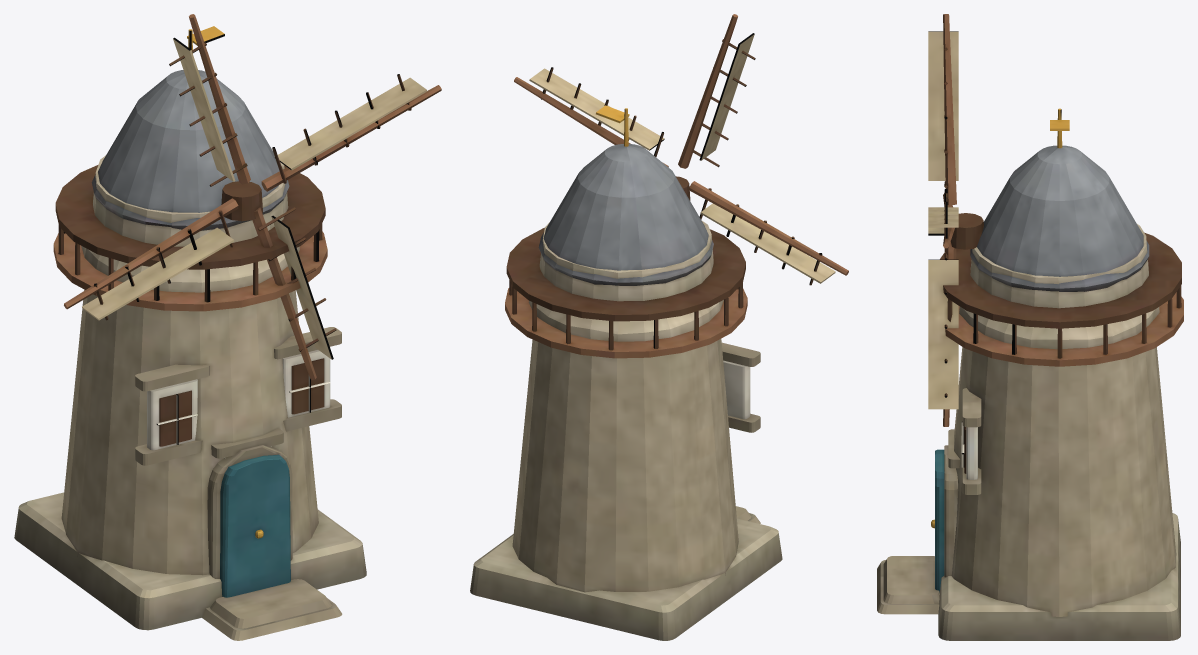
Rendered from windmill.glb.
3 renders of one model, left to right at view 1: azimuth 30°, elevation 25°; view 2: azimuth 150°, elevation 25°; view 3: azimuth 270°, elevation 25°, orthographic. The views are drawn at different scales.
Visible parts, largest first — view 1: Windmill; view 2: Windmill; view 3: Windmill.
Boxes of the visible parts, box(x1,y1,x2,y2) form: Windmill: box(14, 14, 441, 640); Windmill: box(470, 14, 848, 640); Windmill: box(877, 14, 1183, 640).
Size of the model in its own units: 4.43 by 6.77 by 3.43.
Materials: 1 (1 with a texture image).
